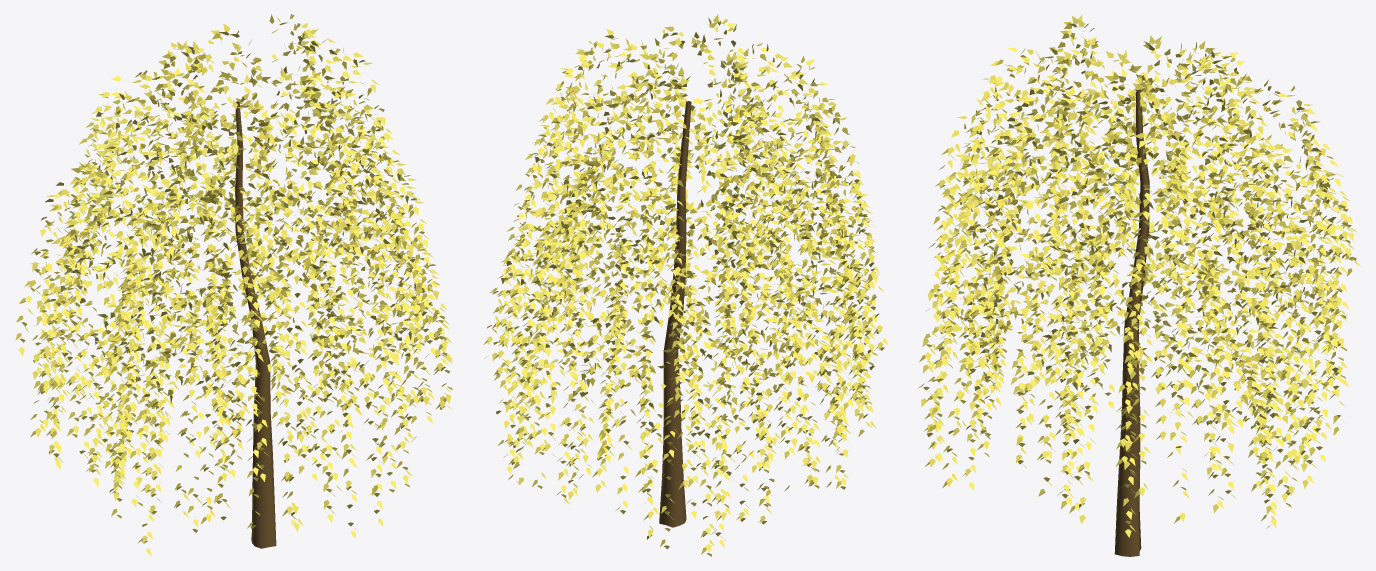
The model's file is Busch 5.FBX.
The picture shows the model from 3 angles, left to right: view 1: azimuth 30°, elevation 25°; view 2: azimuth 150°, elevation 25°; view 3: azimuth 270°, elevation 25°; orthographic projection. The views are drawn at different scales.
Visible parts, largest first — view 1: Foliage011; view 2: Foliage011; view 3: Foliage011.
Boxes of the visible parts, x1=… form: Foliage011: x1=15, y1=14, x2=453, y2=556; Foliage011: x1=483, y1=14, x2=888, y2=556; Foliage011: x1=918, y1=14, x2=1360, y2=556.
Size of the model in its own units: 136 by 166 by 130.
